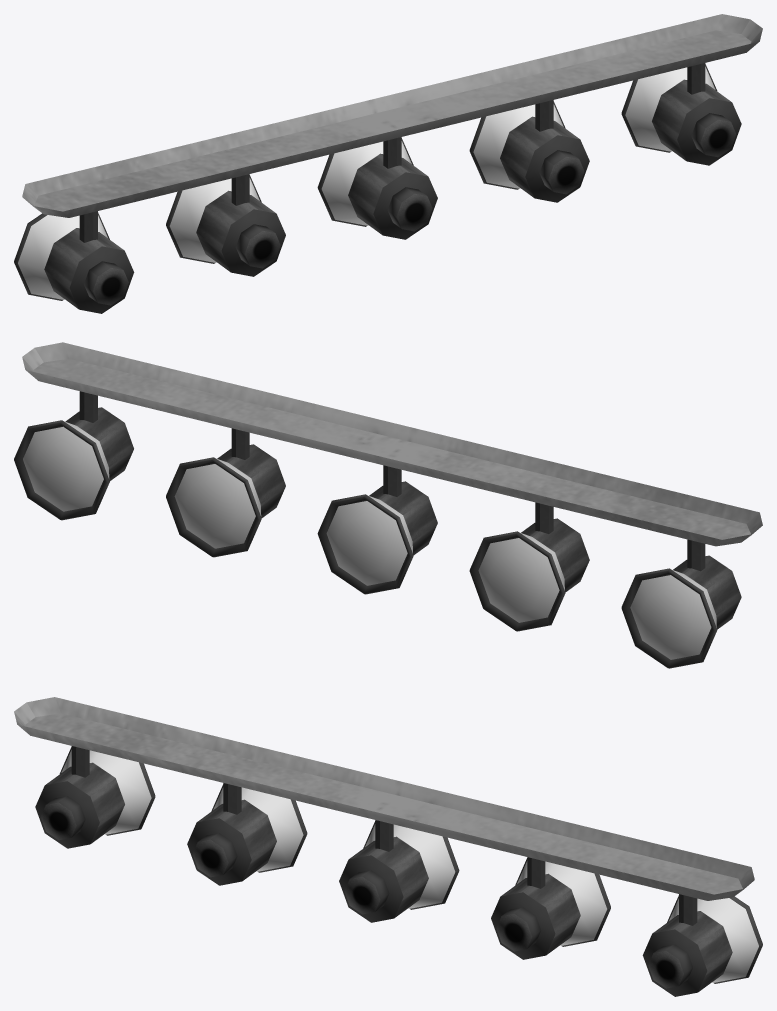
File: Hot Lamp 5.fbx
3 renders of one model, top to bottom at view 1: azimuth 30°, elevation 25°; view 2: azimuth 150°, elevation 25°; view 3: azimuth 330°, elevation 25°, orthographic.
Visible parts, largest first — view 1: Hot Lamp 5, Circle.004, Circle.002, Circle.006, Circle.005, Circle.003; view 2: Hot Lamp 5, Circle.002, Circle.003, Circle.005, Circle.004, Circle.006; view 3: Hot Lamp 5, Circle.006, Circle.002, Circle.004, Circle.003, Circle.005.
Boxes of the visible parts, x1,y1,x2,y2 form: Hot Lamp 5: (22, 14, 762, 242); Circle.004: (14, 212, 134, 313); Circle.002: (317, 138, 437, 239); Circle.006: (621, 64, 741, 165); Circle.005: (469, 101, 589, 202); Circle.003: (166, 175, 285, 276); Hot Lamp 5: (22, 342, 762, 571); Circle.002: (317, 481, 437, 594); Circle.003: (469, 518, 589, 631); Circle.005: (166, 444, 285, 557); Circle.004: (621, 555, 741, 668); Circle.006: (14, 407, 133, 520); Hot Lamp 5: (14, 697, 754, 925); Circle.006: (642, 895, 762, 996); Circle.002: (339, 821, 459, 922); Circle.004: (35, 747, 155, 848); Circle.003: (187, 784, 307, 885); Circle.005: (491, 858, 610, 959).
Size of the model in its own units: 146 by 25.66 by 17.85.
